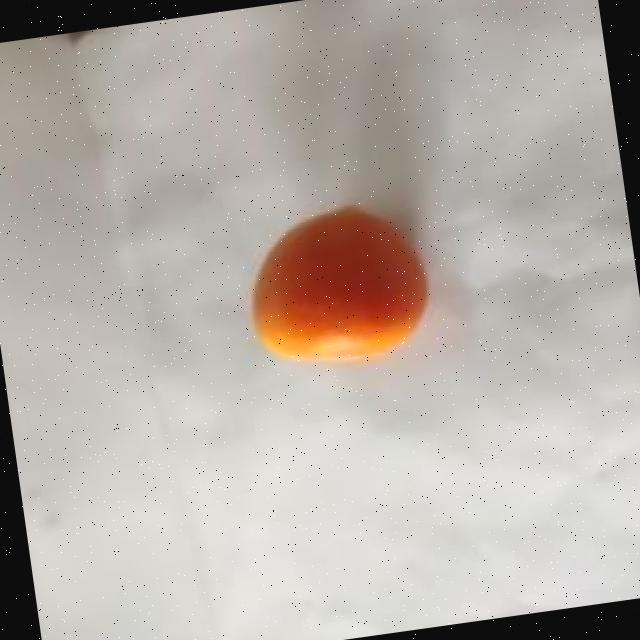Ripe: (228, 188, 442, 380)
